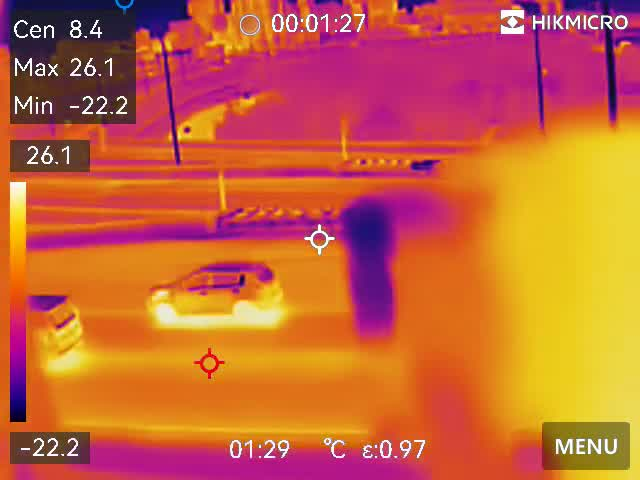largeCar: (145, 253, 284, 314)
